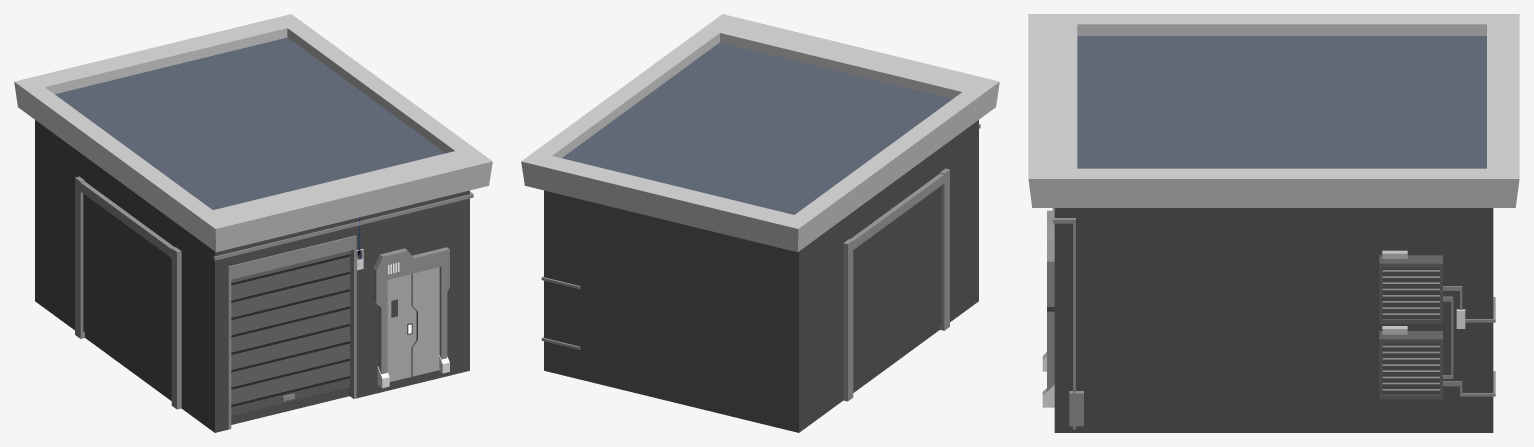
Rendered from MaintenanceOffice_03.fbx.
3 views of the same model, side by side, from view 1: azimuth 30°, elevation 25°; view 2: azimuth 150°, elevation 25°; view 3: azimuth 270°, elevation 25° (orthographic). The views are drawn at different scales.
Parts seen in each view (by area): view 1: Maintenance_Office_3; view 2: Maintenance_Office_3; view 3: Maintenance_Office_3.
Boxes of the visible parts, x1,y1,x2,y2 form: Maintenance_Office_3: [14, 14, 492, 432]; Maintenance_Office_3: [521, 14, 999, 432]; Maintenance_Office_3: [1028, 14, 1519, 432].
Size of the model in its own units: 2359 by 1729 by 2947.
